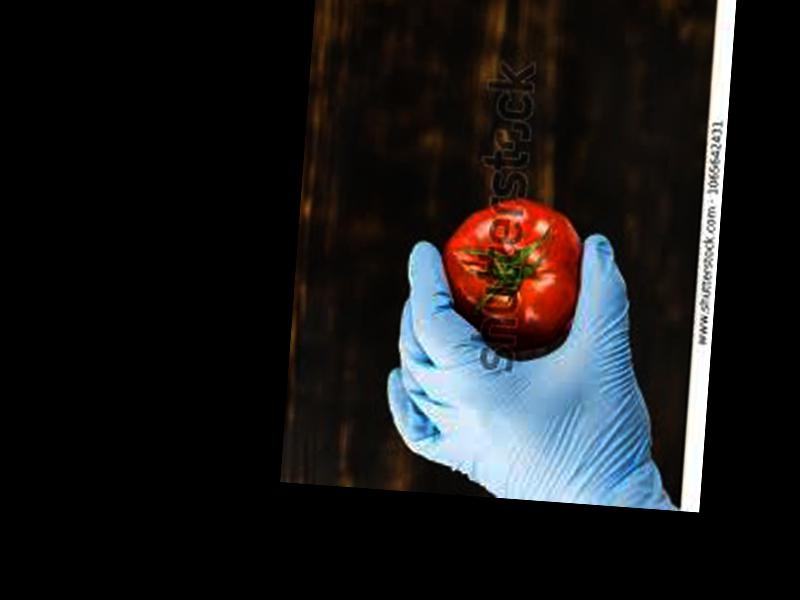Tomato: (435, 191, 587, 356)
